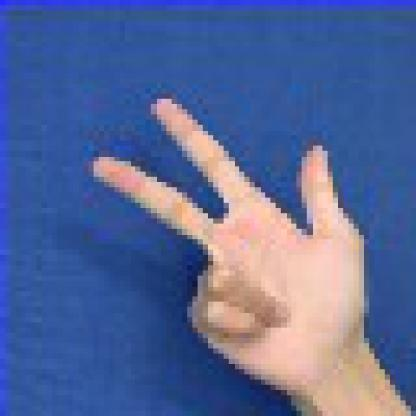eight: (62, 88, 411, 411)
